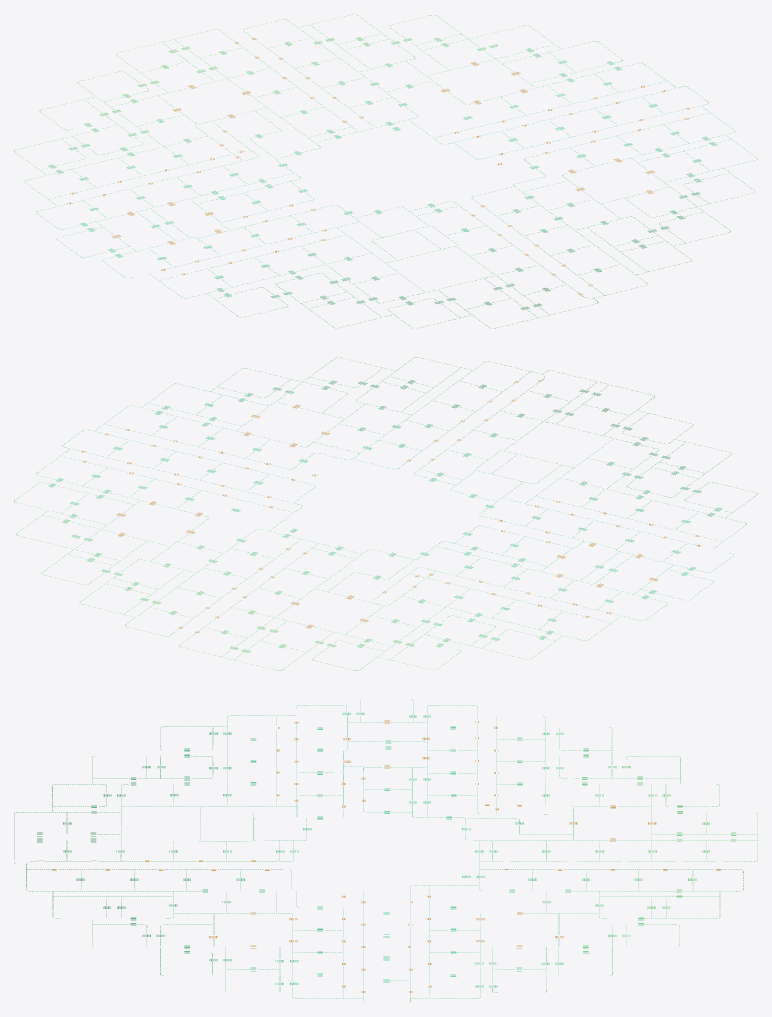
File: Markings_D6.fbx
The picture shows the model from 3 angles, top to bottom: view 1: azimuth 30°, elevation 25°; view 2: azimuth 150°, elevation 25°; view 3: azimuth 270°, elevation 25°; orthographic projection.
Size of the model in its own units: 231299 by 3.73 by 239622.
Materials: 2 (1 with a texture image).
